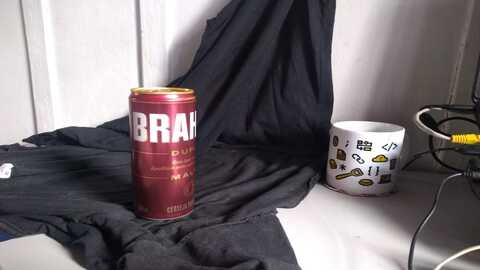duplo_malte: (128, 90, 197, 214)
